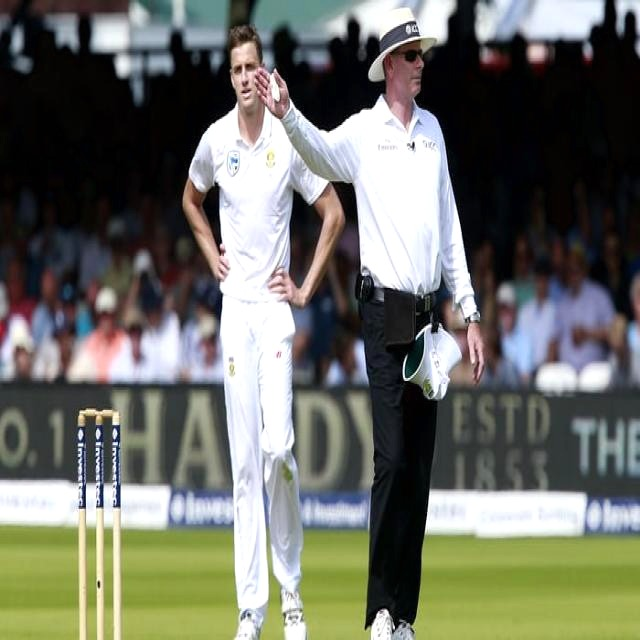No_Ball: (252, 6, 492, 640)
